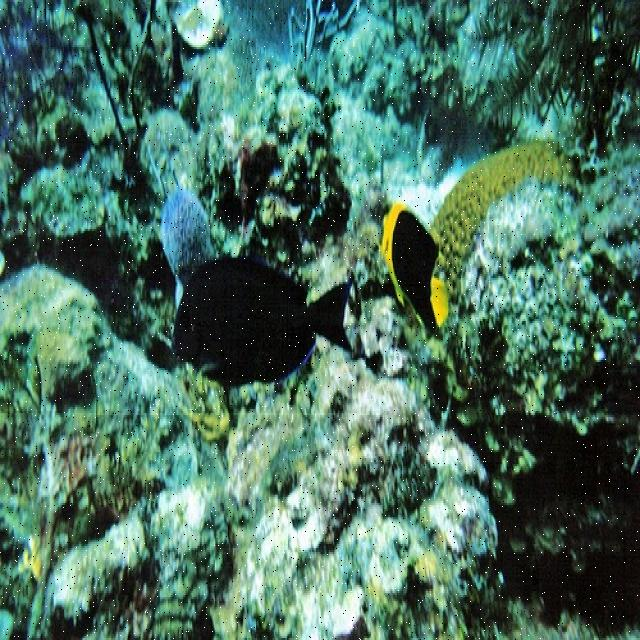fish: (171, 245, 355, 388), (379, 198, 449, 342)
reefs: (430, 139, 581, 305), (146, 130, 217, 279)
